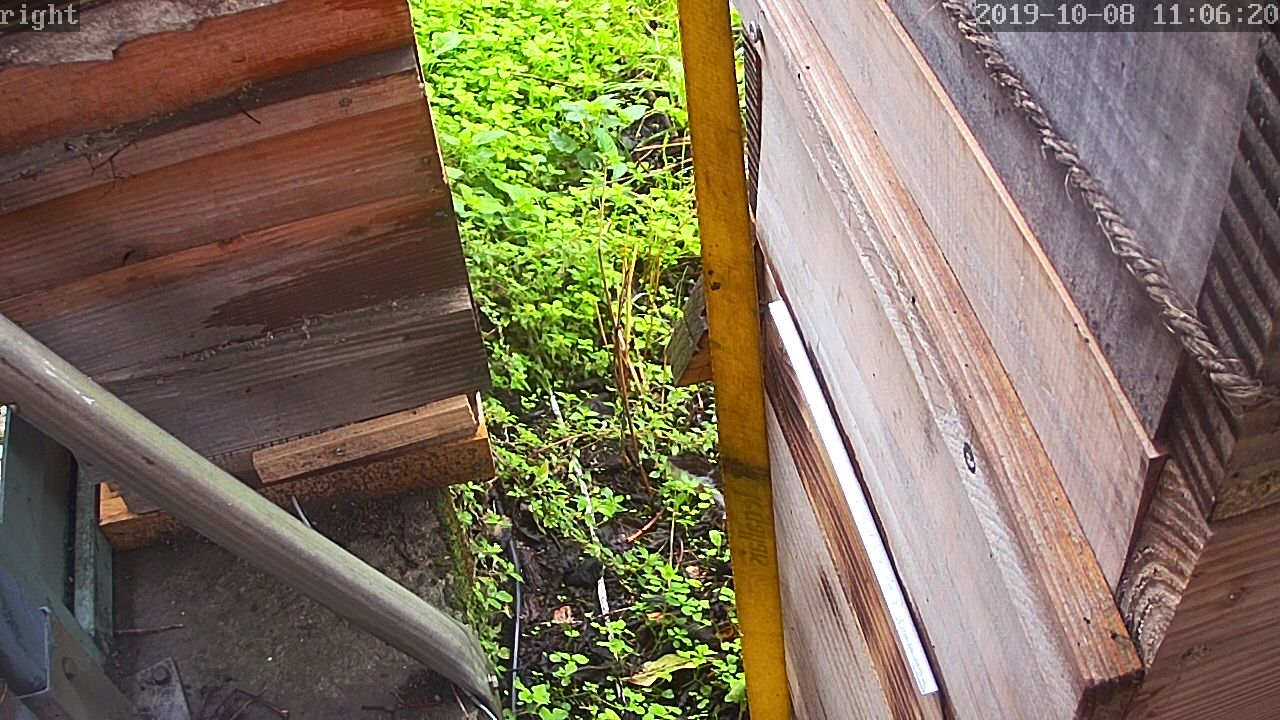hornet: (698, 592, 750, 649)
